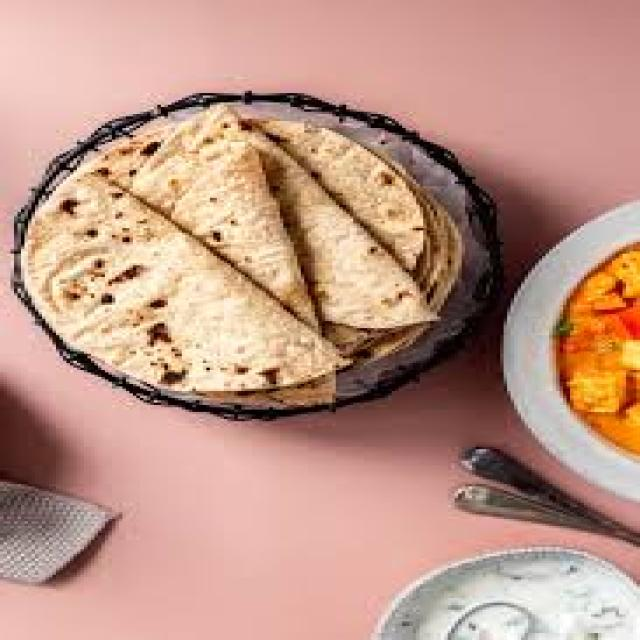ROTI: (24, 164, 356, 398), (109, 105, 325, 342), (240, 111, 447, 287), (246, 134, 438, 321)
